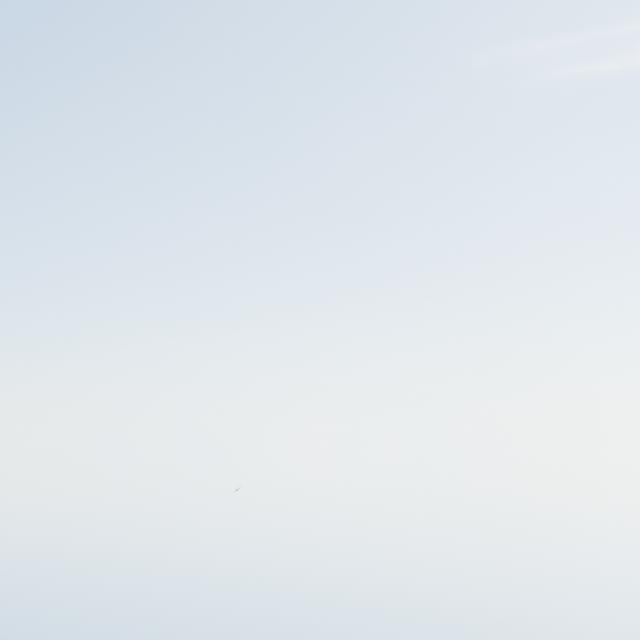Airaplan: (233, 486, 241, 492)
